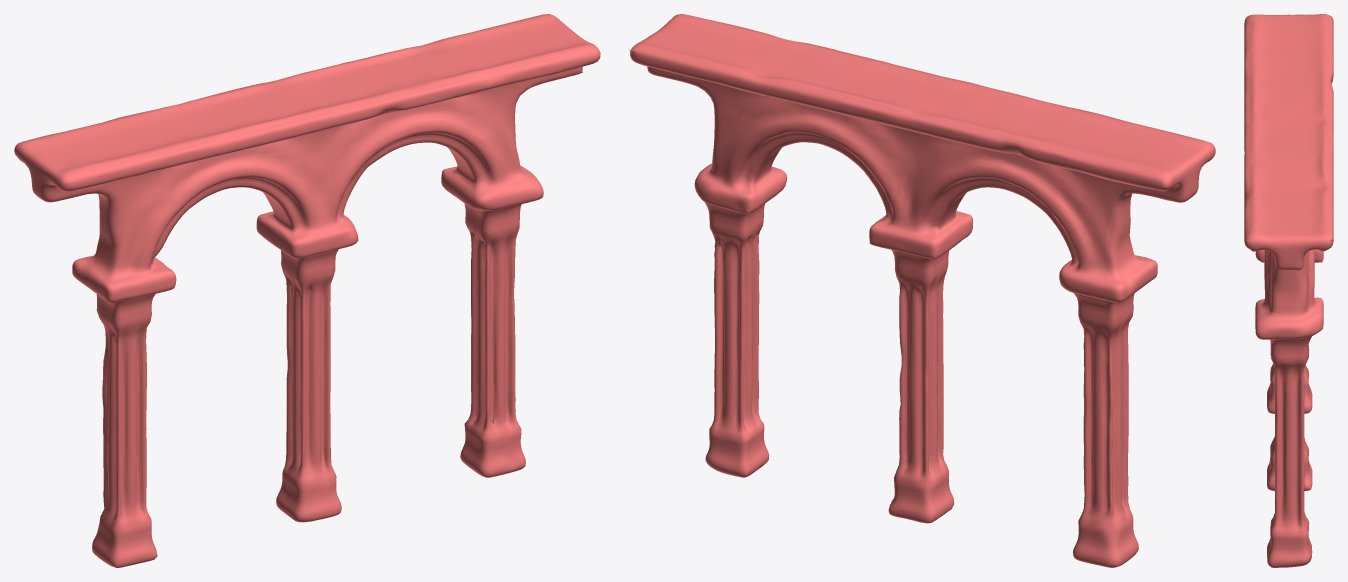
Rendered from arch03.fbx.
3 views of the same model, side by side, from view 1: azimuth 30°, elevation 25°; view 2: azimuth 150°, elevation 25°; view 3: azimuth 270°, elevation 25° (orthographic). The views are drawn at different scales.
Parts seen in each view (by area): view 1: Merged_pasted__pasted__pCube6; view 2: Merged_pasted__pasted__pCube6; view 3: Merged_pasted__pasted__pCube6.
Boxes of the visible parts, box(x1,y1,x2,y2) form: Merged_pasted__pasted__pCube6: box(14, 14, 600, 567); Merged_pasted__pasted__pCube6: box(629, 14, 1215, 567); Merged_pasted__pasted__pCube6: box(1244, 14, 1333, 567).
Size of the model in its own units: 11.72 by 8.69 by 1.96.
